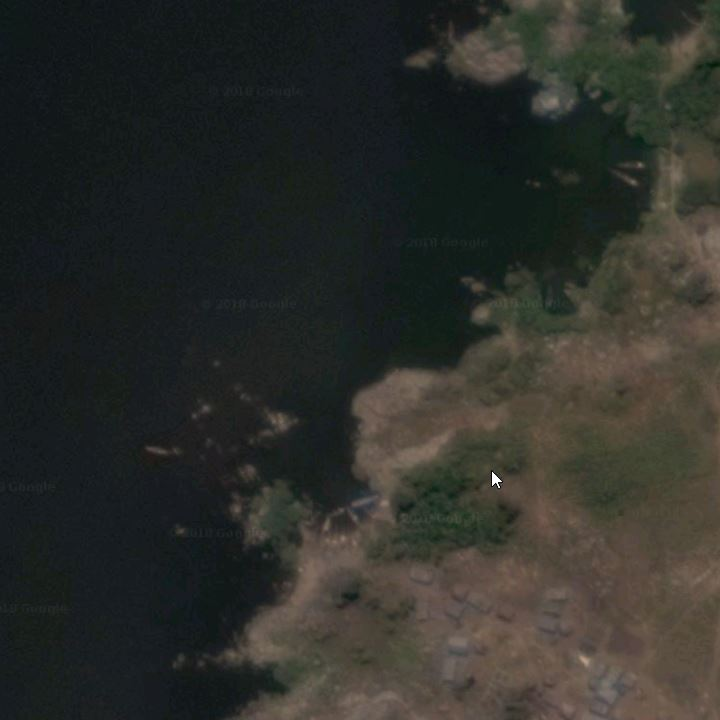boat: (609, 169, 641, 189), (542, 278, 558, 315), (134, 445, 173, 459), (350, 495, 381, 508), (345, 506, 362, 528), (613, 159, 646, 170), (333, 503, 348, 520), (324, 515, 335, 536)
